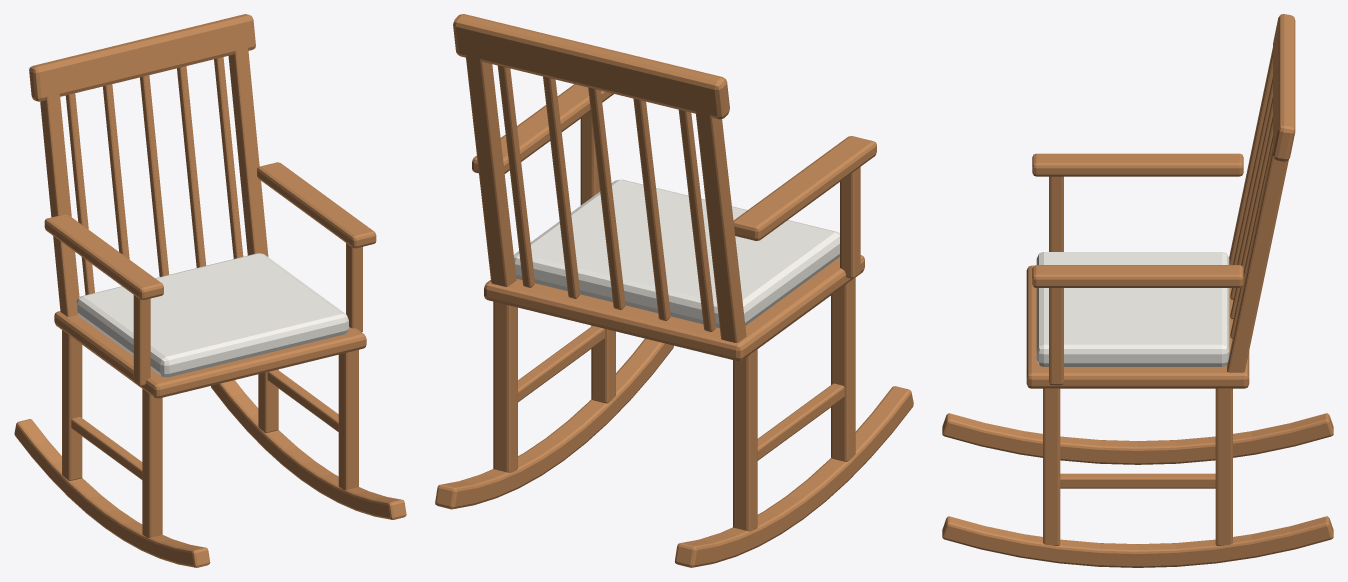
File: hh_cat_rocking_chair.glb
3 renders of one model, left to right at view 1: azimuth 30°, elevation 25°; view 2: azimuth 150°, elevation 25°; view 3: azimuth 270°, elevation 25°, orthographic. The views are drawn at different scales.
Visible parts, largest first — view 1: cushion, top_rail, seat, rocker, rocker.001, back_post.001, back_post, arm.001, arm, leg, leg.002, leg.001 (+10 smaller); view 2: cushion, top_rail, seat, rocker, rocker.001, back_post, back_post.001, arm, leg.001, leg.003, leg, spindle.001 (+10 smaller); view 3: cushion, rocker.001, rocker, seat, arm, arm.001, back_post.001, top_rail, leg.002, leg.003, stretcher.001, arm_post.001 (+6 smaller).
Part boxes in pixels (left/top/right/bottom): cushion: left=76, top=253, right=348, bottom=377; top_rail: left=29, top=14, right=255, bottom=101; seat: left=54, top=311, right=366, bottom=398; rocker: left=14, top=419, right=210, bottom=567; rocker.001: left=211, top=380, right=406, bottom=519; back_post.001: left=228, top=37, right=268, bottom=256; back_post: left=40, top=83, right=79, bottom=316; arm.001: left=257, top=162, right=376, bottom=248; arm: left=44, top=214, right=163, bottom=299; leg: left=142, top=389, right=162, bottom=537; leg.002: left=338, top=350, right=358, bottom=490; leg.001: left=62, top=330, right=82, bottom=480; cushion: left=514, top=179, right=839, bottom=328; top_rail: left=453, top=14, right=729, bottom=119; seat: left=484, top=255, right=864, bottom=360; rocker: left=675, top=386, right=913, bottom=567; rocker.001: left=435, top=338, right=673, bottom=509; back_post: left=695, top=112, right=746, bottom=342; back_post.001: left=465, top=56, right=516, bottom=286; arm: left=733, top=136, right=876, bottom=240; leg.001: left=733, top=349, right=757, bottom=531; leg.003: left=493, top=301, right=517, bottom=472; leg: left=831, top=277, right=855, bottom=461; spindle.001: left=633, top=98, right=670, bottom=320; cushion: left=1036, top=252, right=1229, bottom=366; rocker.001: left=942, top=516, right=1333, bottom=567; rocker: left=942, top=413, right=1333, bottom=464; seat: left=1026, top=265, right=1249, bottom=388; arm: left=1032, top=153, right=1243, bottom=176; arm.001: left=1032, top=265, right=1243, bottom=287; back_post.001: left=1227, top=135, right=1288, bottom=372; top_rail: left=1273, top=14, right=1295, bottom=161; leg.002: left=1043, top=388, right=1060, bottom=545; leg.003: left=1215, top=388, right=1232, bottom=545; stretcher.001: left=1060, top=473, right=1215, bottom=488; arm_post.001: left=1049, top=288, right=1063, bottom=385.
Size of the model in its own units: 0.6 by 1 by 0.8.
